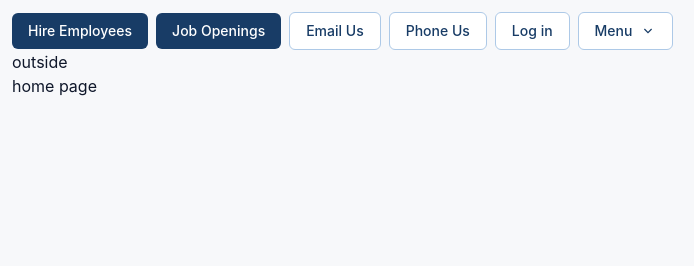
Test: <GlobalNav /> — dropdown menu › closes after navigating to a new route via a menu item
Click the button "Menu" at (626, 31), box [578,12,673,50]
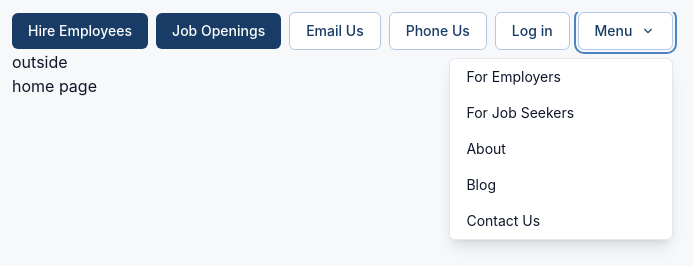
Click the menu item "About" at (486, 148), box [466,140,506,157]
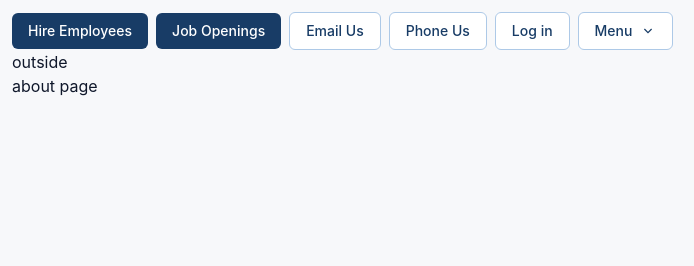
Check: the menu is gone
